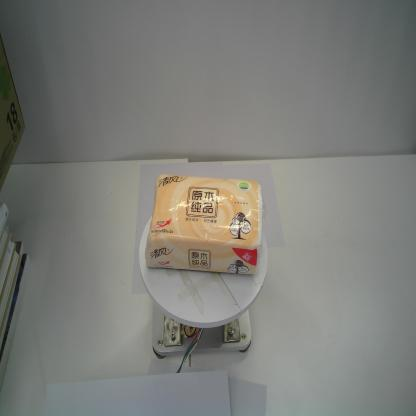Tissue: (144, 172, 266, 278)
